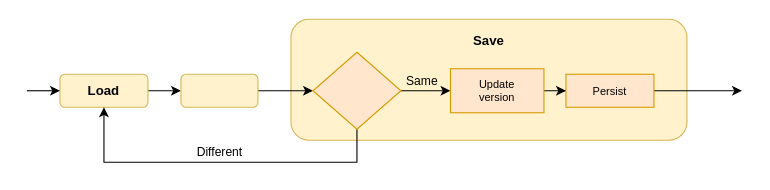
Some shapes in this 770 by 190 pixel diagram are drawn without their labels. The shapes that lost their labels are listed below. From the top down, each one's centre as x and y in pixels, then its label:
the point at 219,90: Modify
the point at 356,90: Compare version
